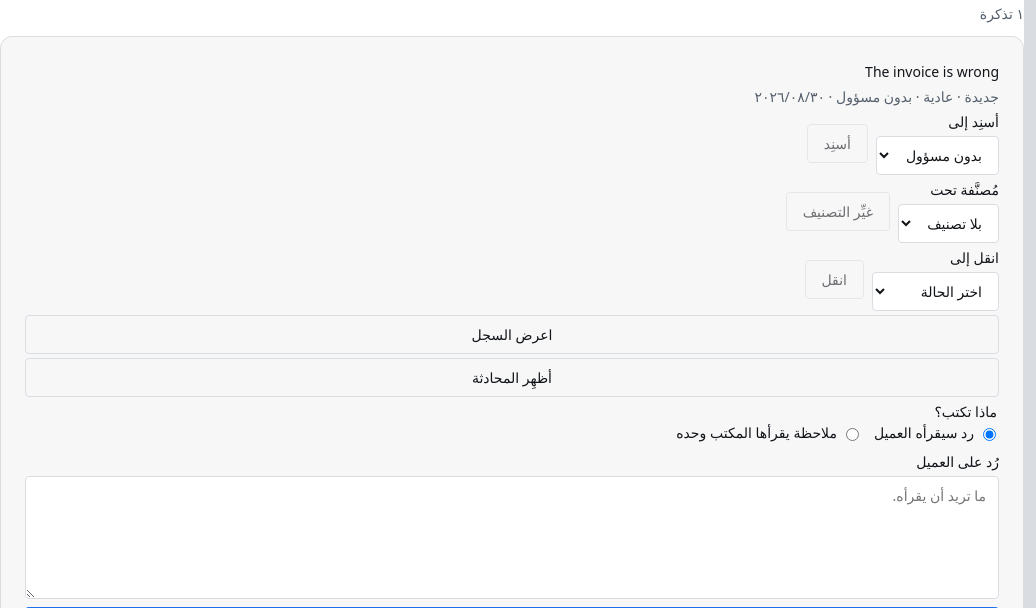
it: every string comes from the resource file, in both languages
Click the button "أظهِر المحادثة": (512, 378) 25,358 -> 999,397
(page scrolled)
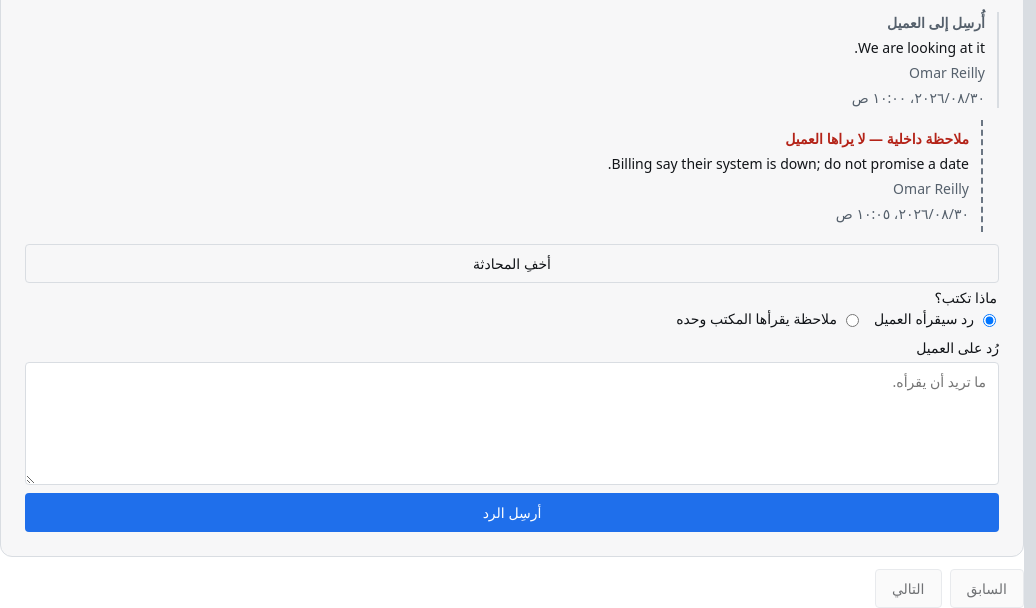
Expected: the radio button labelled "ملاحظة يقرأها المكتب وحده" is shown, 846,314 -> 859,326
Result: the number of list items with class "ticket-thread__message" is 2 at 25,12 -> 999,108; 25,120 -> 983,232
Result: the text "ملاحظة داخلية — لا يراها العميل" is shown at 785,129 -> 969,148
